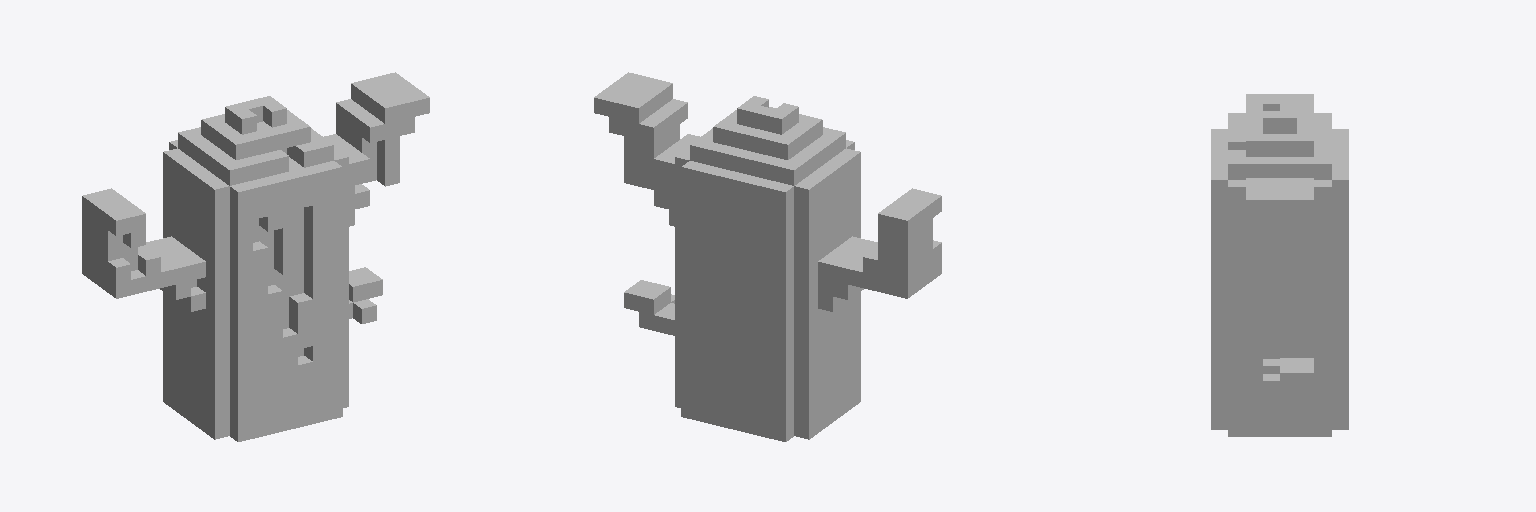
The model's file is кактус 1 сухой.obj.
The picture shows the model from 3 angles: view 1: azimuth 30°, elevation 25°; view 2: azimuth 150°, elevation 25°; view 3: azimuth 270°, elevation 25°; orthographic projection.
Parts seen in each view (by area): view 1: object 1; view 2: object 1; view 3: object 1.
Boxes of the visible parts, box(x1,y1,x2,y2) form: object 1: box(82, 72, 429, 441); object 1: box(594, 72, 941, 441); object 1: box(1211, 94, 1348, 436).
Size of the model in its own units: 2.1 by 1.9 by 0.8.